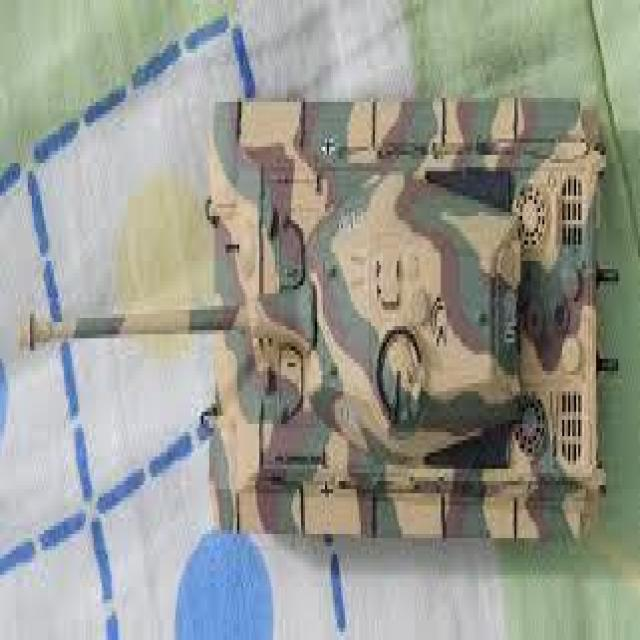MIL_MBT: (204, 98, 599, 542)
